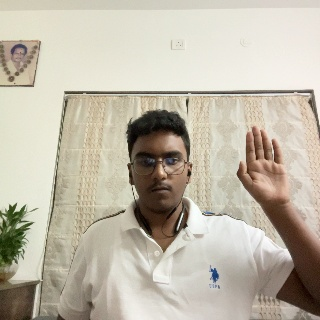Face: (126, 109, 194, 219)
Hello: (238, 123, 298, 220)
